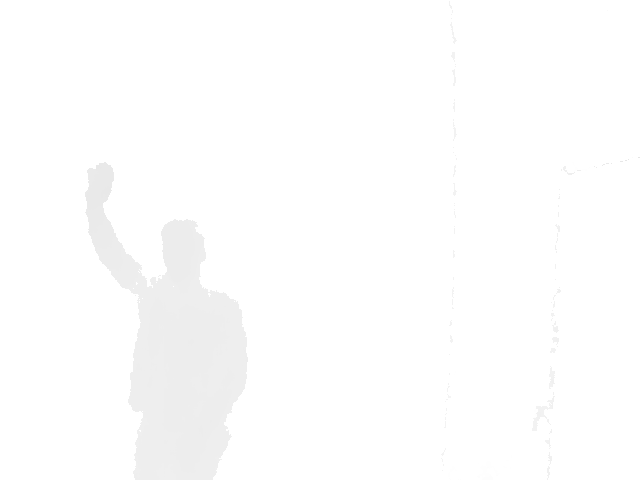hand: (83, 161, 115, 207)
head: (161, 217, 208, 276)
person: (83, 161, 250, 480)
